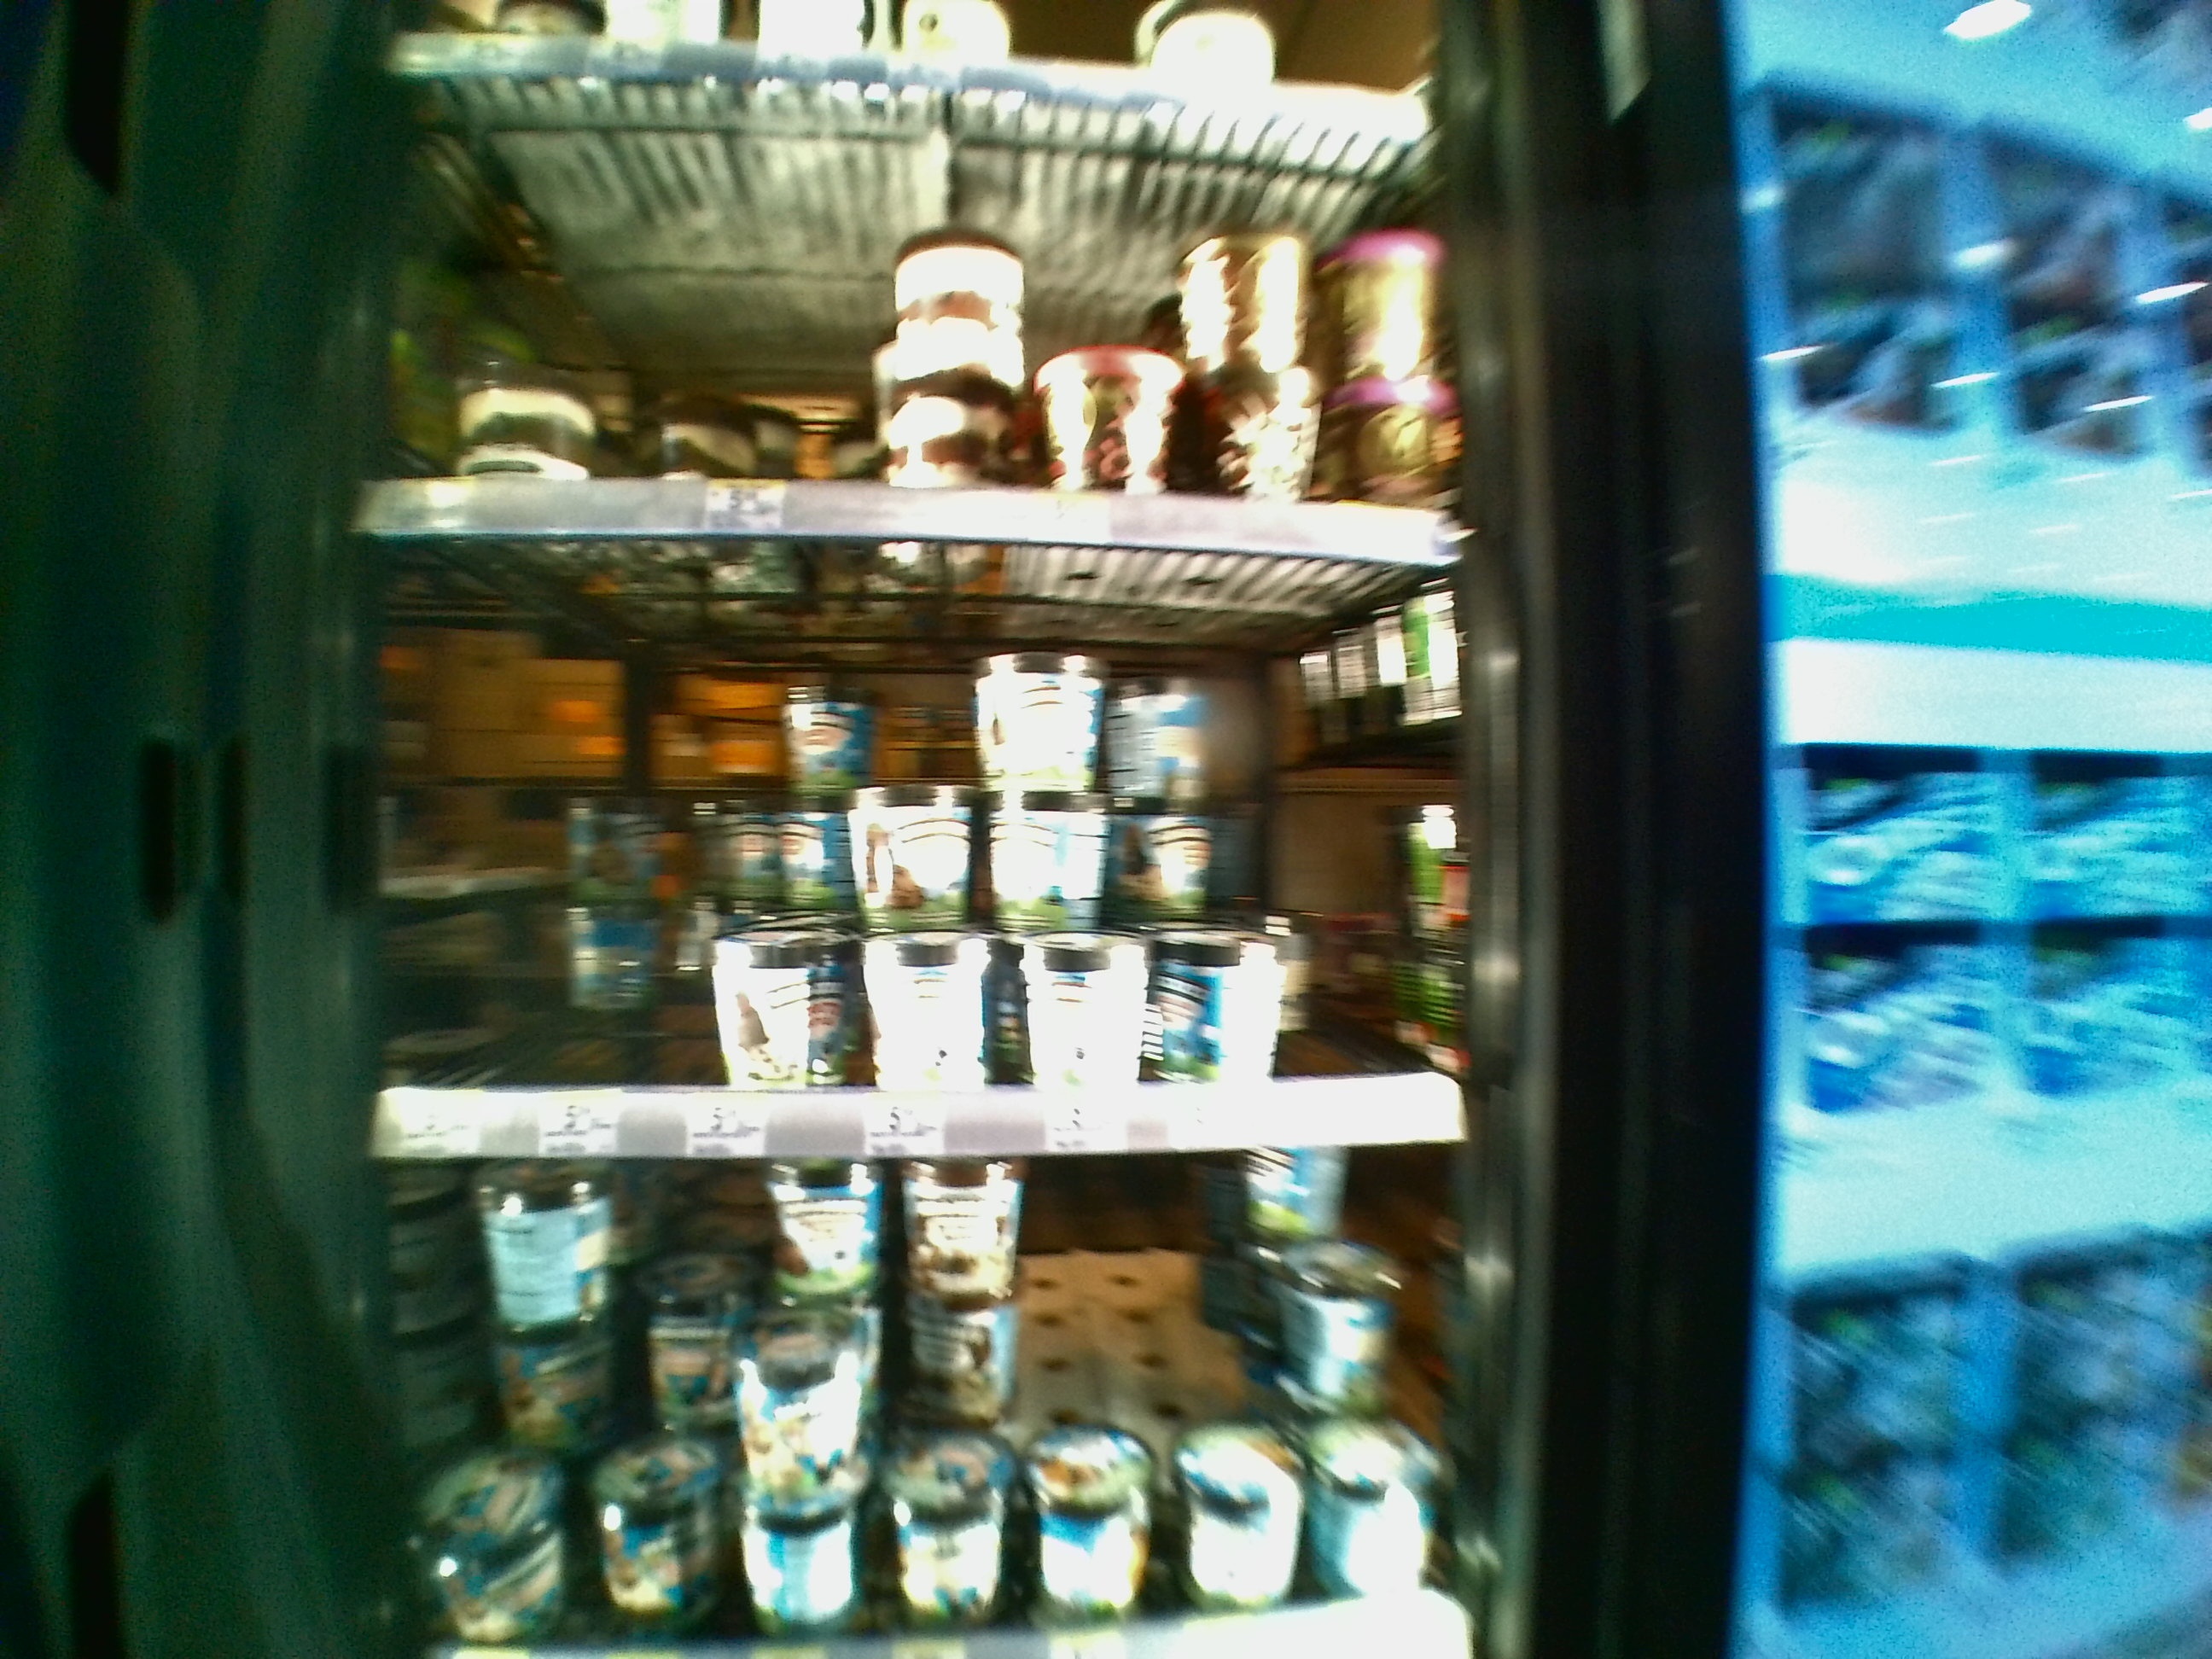shelf: (348, 552, 1480, 1159), (347, 73, 1474, 540)
